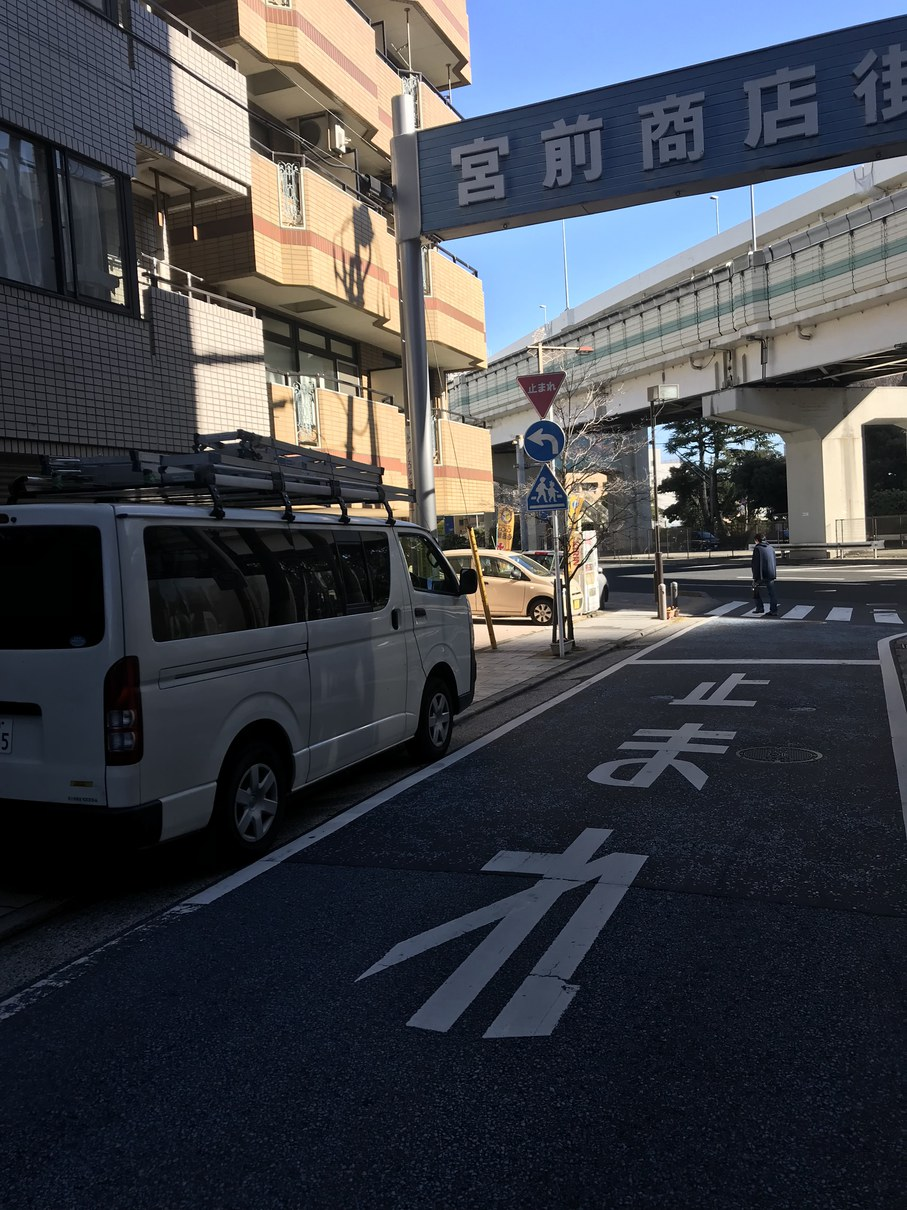stop_sign: (516, 367, 567, 420)
